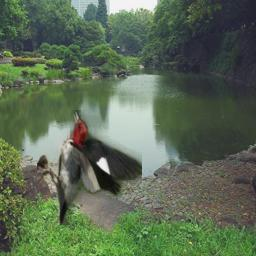Woodpecker: (37, 110, 142, 225)
